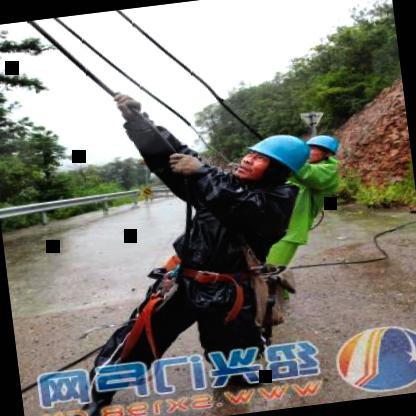helmet: (229, 126, 319, 190), (300, 130, 346, 168)
